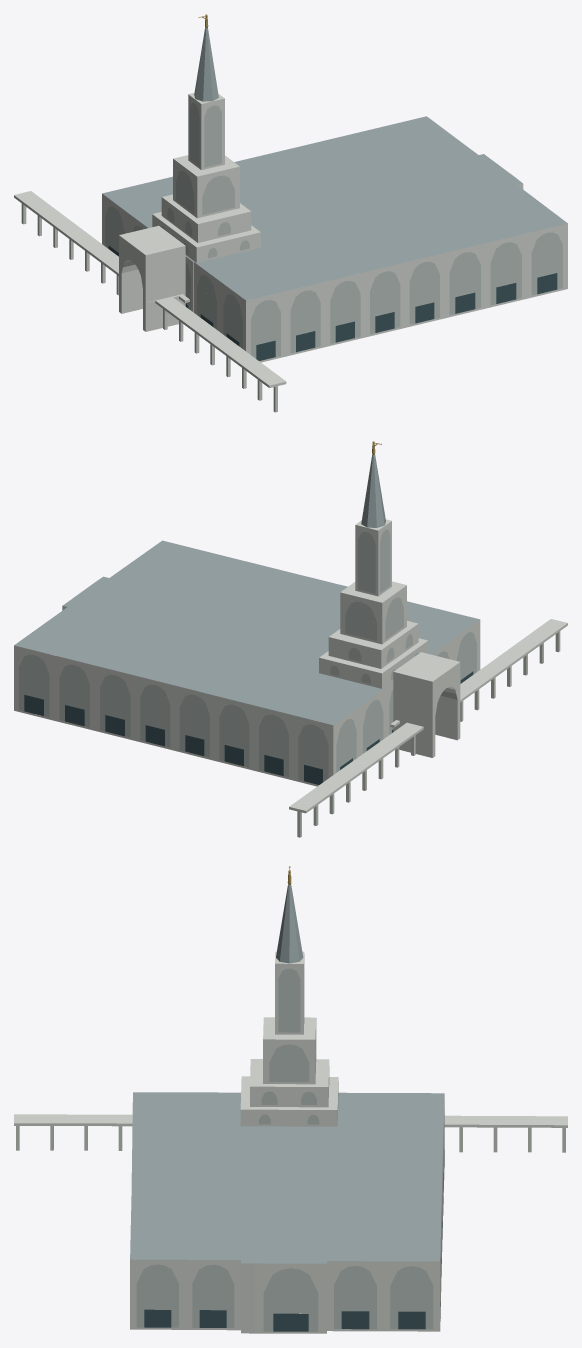
The model's file is toronto-ontario-temple-brampton-far.glb.
The picture shows the model from 3 angles, top to bottom: view 1: azimuth 30°, elevation 25°; view 2: azimuth 150°, elevation 25°; view 3: azimuth 270°, elevation 25°; orthographic projection. The views are drawn at different scales.
Parts seen in each view (by area): view 1: toronto-ontario-temple-brampton-0-roof, toronto-ontario-temple-brampton-0-white, toronto-ontario-temple-brampton-0-recess, toronto-ontario-temple-brampton-0-glass, toronto-ontario-temple-brampton-0-column; view 2: toronto-ontario-temple-brampton-0-roof, toronto-ontario-temple-brampton-0-white, toronto-ontario-temple-brampton-0-recess, toronto-ontario-temple-brampton-0-glass, toronto-ontario-temple-brampton-0-column; view 3: toronto-ontario-temple-brampton-0-roof, toronto-ontario-temple-brampton-0-white, toronto-ontario-temple-brampton-0-recess, toronto-ontario-temple-brampton-0-glass, toronto-ontario-temple-brampton-0-column.
Part boxes in pixels (x1=…): toronto-ontario-temple-brampton-0-roof: x1=102, y1=28, x2=567, y2=300; toronto-ontario-temple-brampton-0-white: x1=14, y1=92, x2=567, y2=387; toronto-ontario-temple-brampton-0-recess: x1=105, y1=103, x2=562, y2=358; toronto-ontario-temple-brampton-0-glass: x1=108, y1=246, x2=557, y2=360; toronto-ontario-temple-brampton-0-column: x1=21, y1=203, x2=277, y2=412; toronto-ontario-temple-brampton-0-roof: x1=14, y1=454, x2=479, y2=724; toronto-ontario-temple-brampton-0-white: x1=14, y1=519, x2=567, y2=813; toronto-ontario-temple-brampton-0-recess: x1=19, y1=529, x2=476, y2=782; toronto-ontario-temple-brampton-0-glass: x1=24, y1=671, x2=473, y2=784; toronto-ontario-temple-brampton-0-column: x1=297, y1=631, x2=560, y2=837; toronto-ontario-temple-brampton-0-roof: x1=130, y1=884, x2=444, y2=1263; toronto-ontario-temple-brampton-0-white: x1=14, y1=951, x2=567, y2=1333; toronto-ontario-temple-brampton-0-recess: x1=136, y1=966, x2=444, y2=1331; toronto-ontario-temple-brampton-0-glass: x1=144, y1=1149, x2=444, y2=1331; toronto-ontario-temple-brampton-0-column: x1=16, y1=1126, x2=565, y2=1152.
Bounding box in the file's own units: 69.42 × 52.12 × 84.49.
